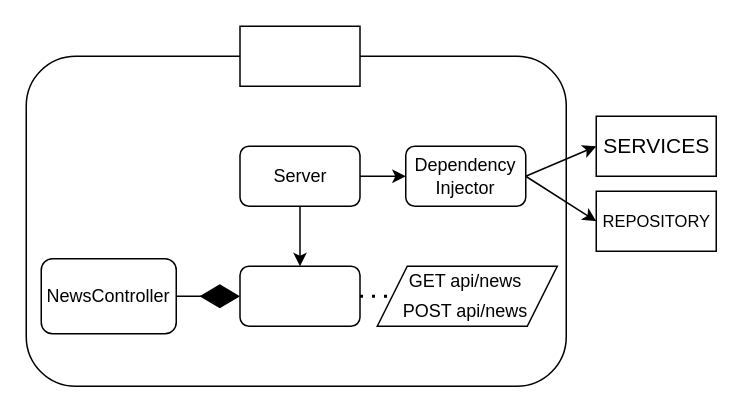
The diagram is 743 pixels wide and 413 high, and some of its shapes have lost their labels. The shapes that lost their labels are listed below. From the top down, each one's centre as x and y in pixels, then its label:
the point at 299,55: API
the point at 299,295: NewsRoutes
